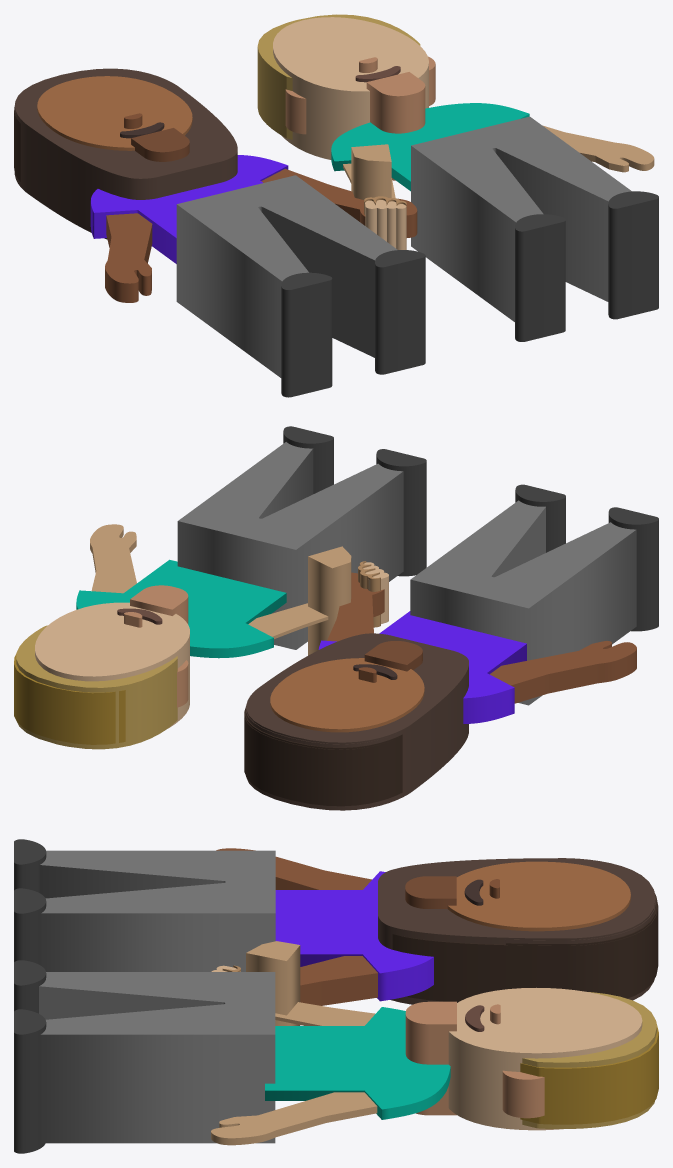
The model's file is emoji_u1f469_1f3fe_200d_1f91d_200d_1f468_1f3fc.glb.
The picture shows the model from 3 angles, top to bottom: view 1: azimuth 30°, elevation 25°; view 2: azimuth 150°, elevation 25°; view 3: azimuth 270°, elevation 25°; orthographic projection. The views are drawn at different scales.
Visible parts, largest first — view 1: emoji_u1f469_1f3fe_200d_1f91d_200d_1f468_1f3fc; view 2: emoji_u1f469_1f3fe_200d_1f91d_200d_1f468_1f3fc; view 3: emoji_u1f469_1f3fe_200d_1f91d_200d_1f468_1f3fc.
Boxes of the visible parts, bbox=[...] form: emoji_u1f469_1f3fe_200d_1f91d_200d_1f468_1f3fc: bbox=[14, 14, 658, 397]; emoji_u1f469_1f3fe_200d_1f91d_200d_1f468_1f3fc: bbox=[14, 426, 658, 810]; emoji_u1f469_1f3fe_200d_1f91d_200d_1f468_1f3fc: bbox=[14, 839, 658, 1153].
Bounding box in the file's own units: 0.0346 × 0.0068 × 0.0334.
